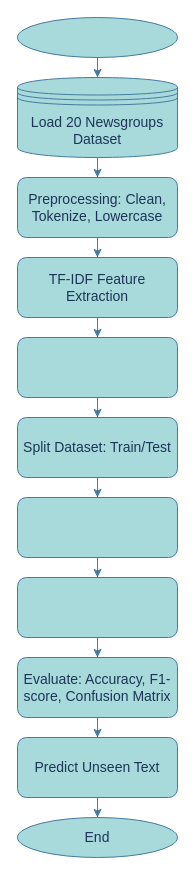
Image size: 195x875. Some labels were removed from this diagram. Here are the shapes that lost their labels. From the top down, the centre of each, then its label:
At (x=97, y=37): "Start".
At (x=97, y=367): "One-hot Encode Labels".
At (x=97, y=527): "MLP Model: Input → Hidden → Output Layers".
At (x=97, y=607): "Train Model: Cross-Entropy Loss, Adam Optimizer".
